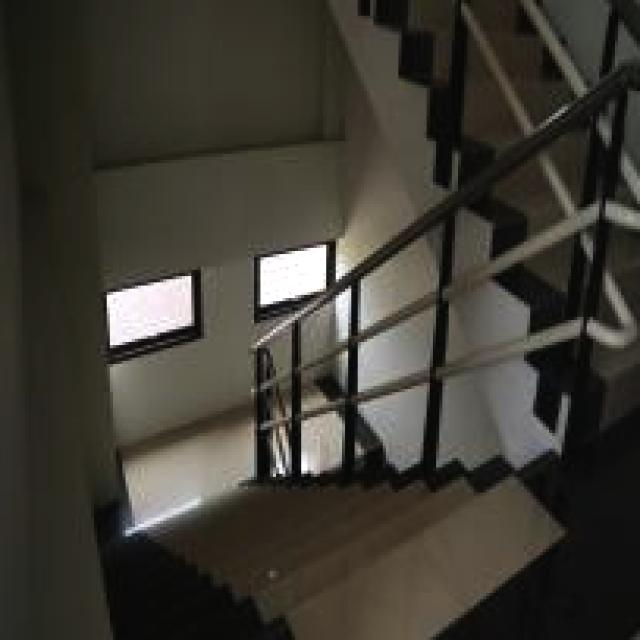downstair: (161, 496, 547, 640)
